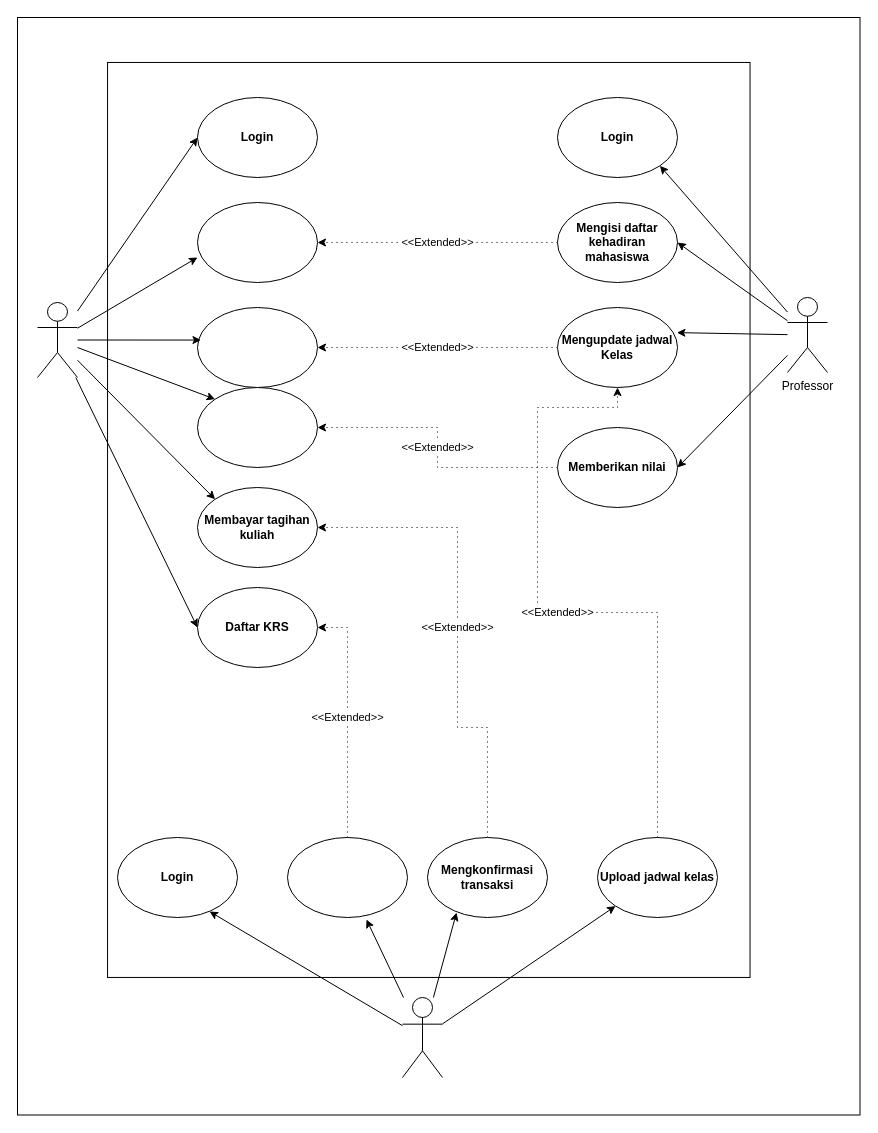
Some shapes in this 878 by 1133 pixel diagram are drawn without their labels. The shapes that lost their labels are listed below. From the top down, each one's centre as x and y in pixels, then its label:
At point (257, 242): "Mengecek jumlah kehadiran".
At point (57, 340): "Student".
At point (257, 347): "Cek jadwal Kelas".
At point (257, 427): "Mengecek nilai".
At point (347, 877): "Mengupload KRS".
At point (422, 1037): "Operator".
